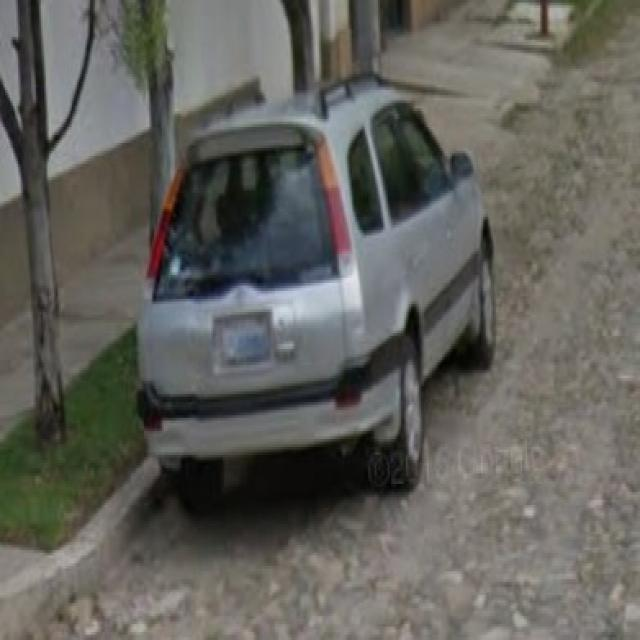cars: (138, 109, 493, 491)
